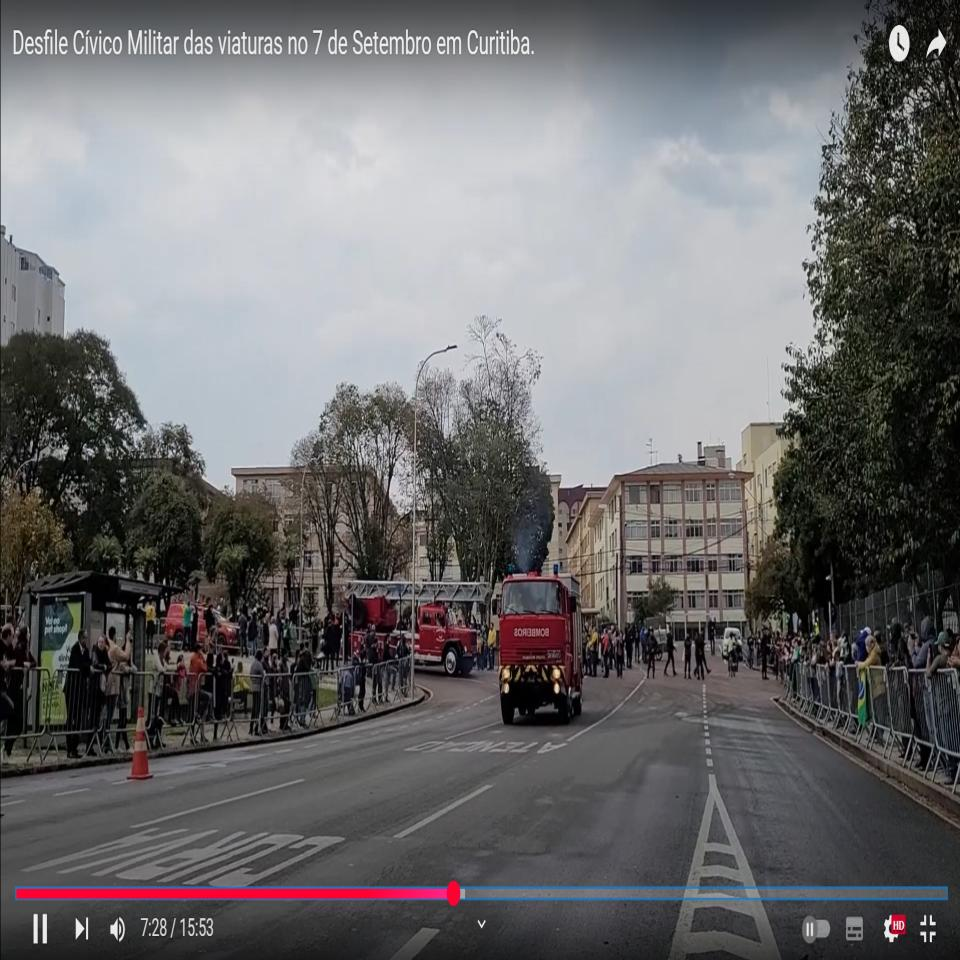viatura: (491, 564, 585, 725), (414, 575, 489, 675)
